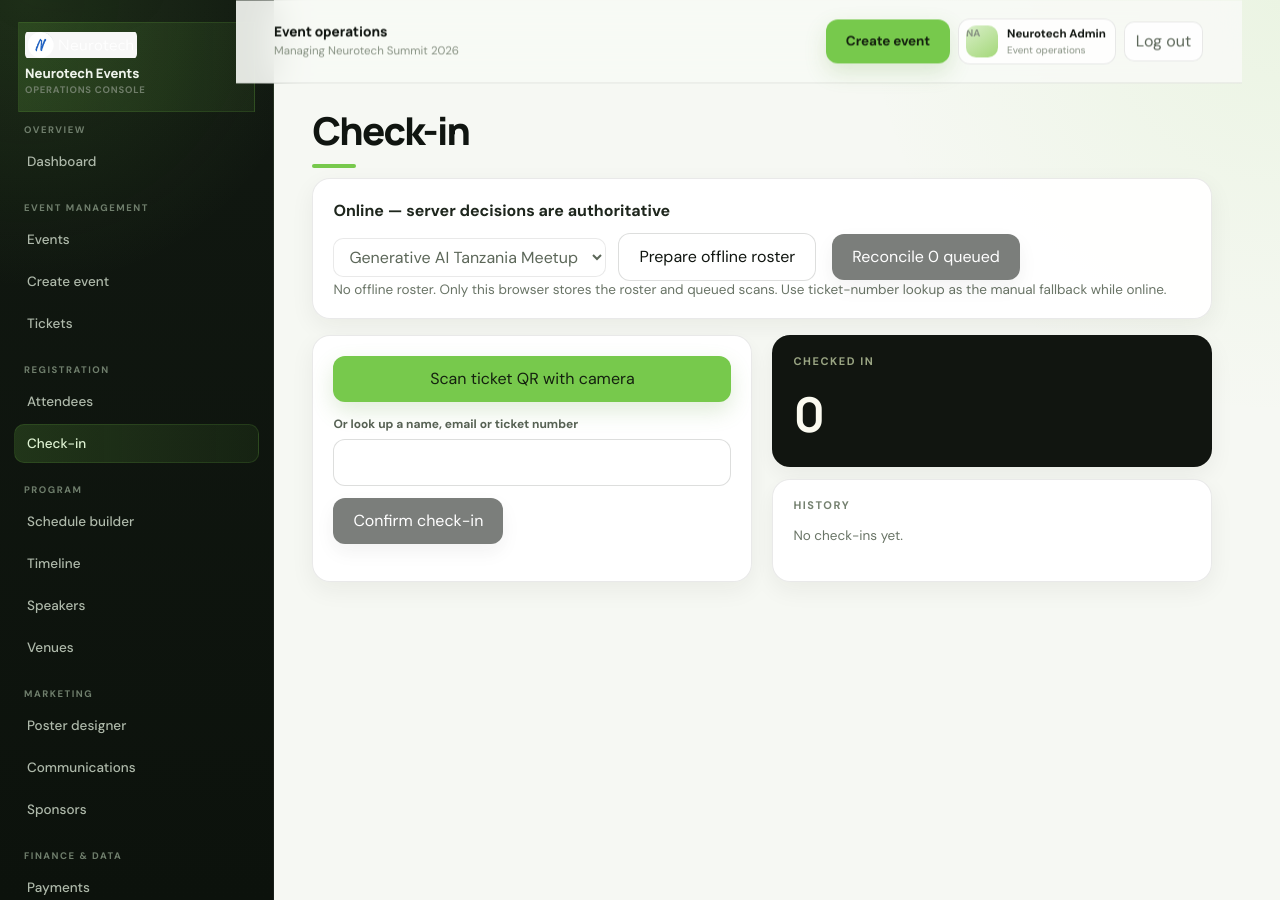
Scenario: check-in › checks a ticket in by ticket number and announces the attendee
Type "NTS-7F3A9C21" into the field labelled "Or look up a name, email or ticket number".
click(532, 463); type("NTS-7F3A9C21")  # box [333,439,731,486]
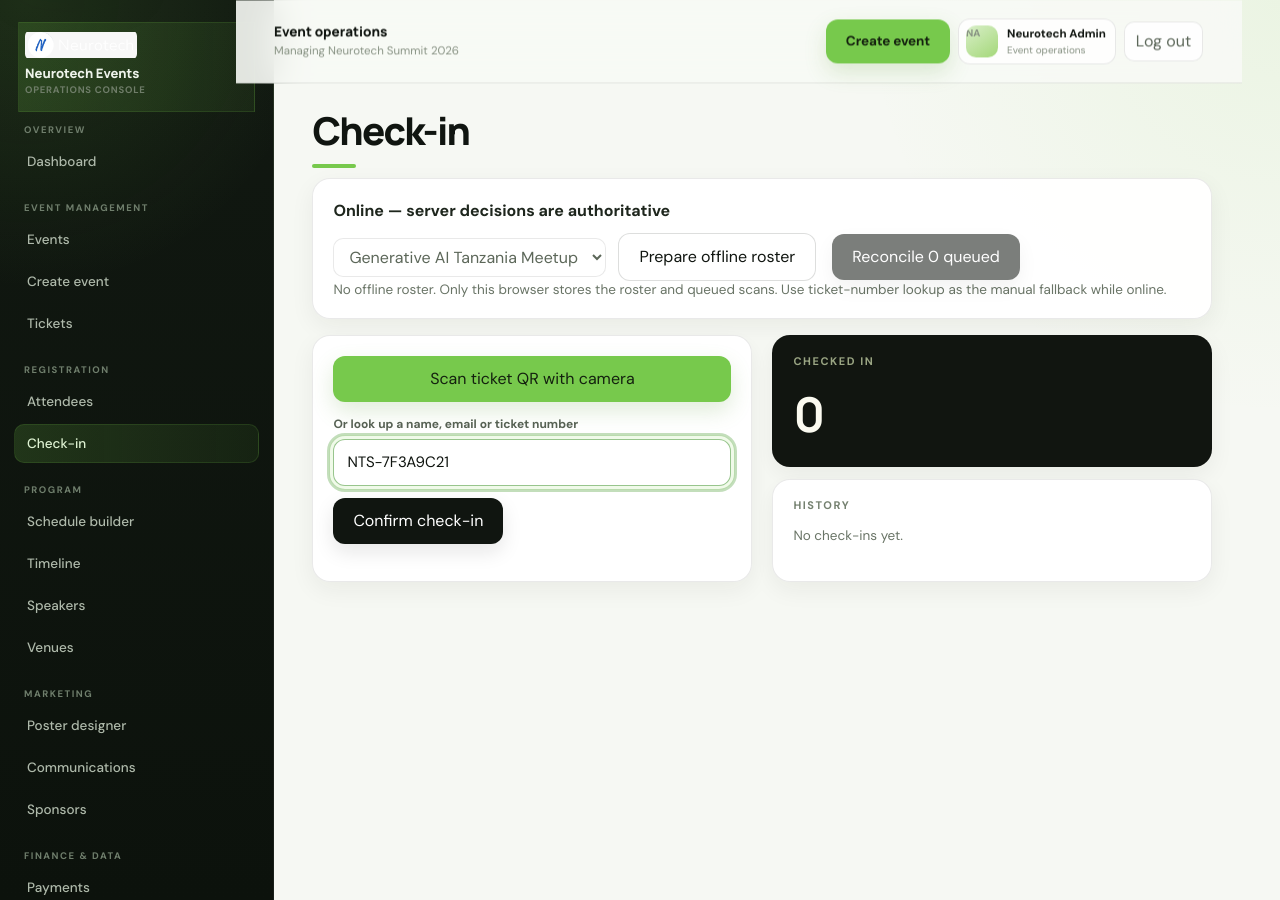
Click the button "Confirm check-in".
click(418, 521)  # box [333,498,503,544]
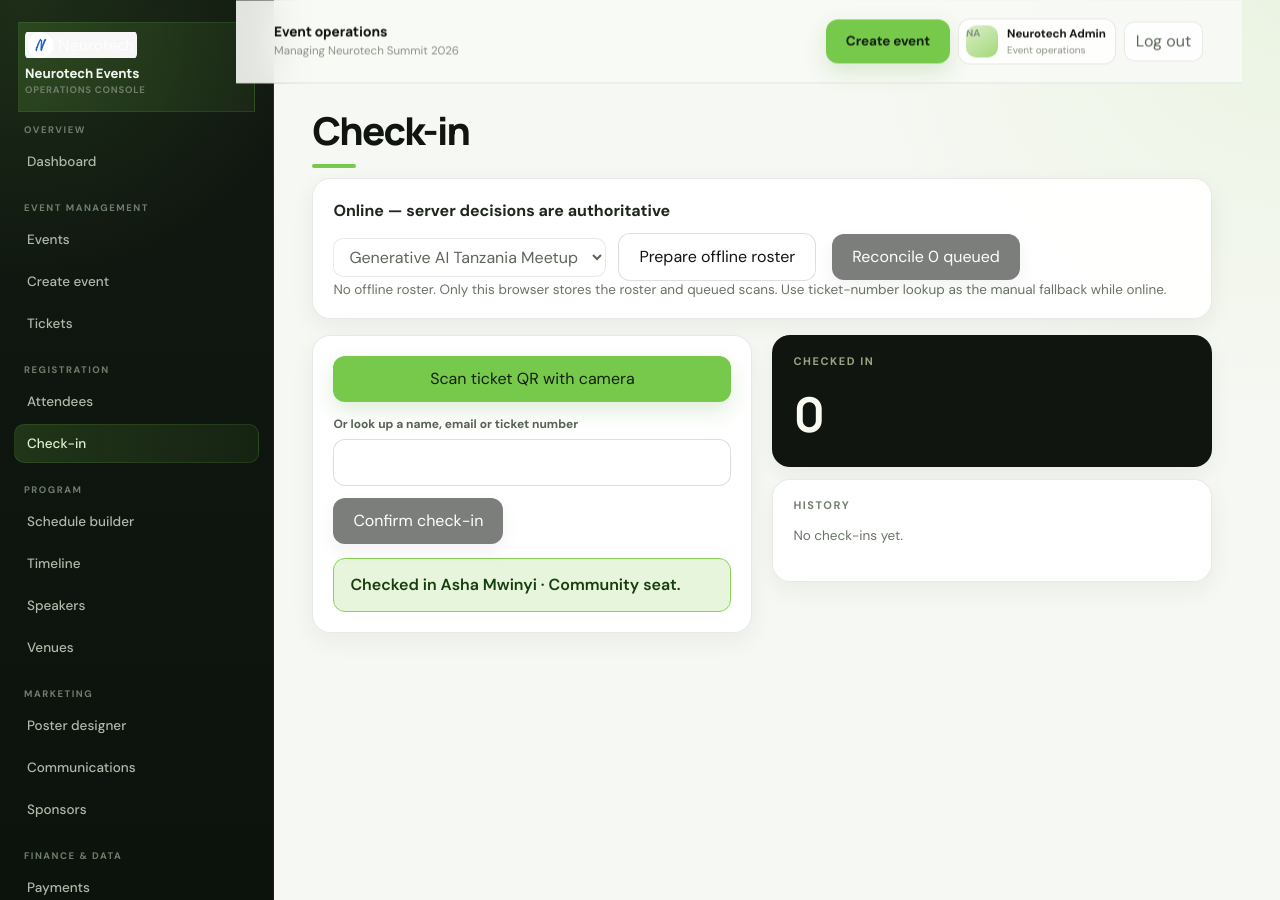
Expected: the message reads "Checked in Asha Mwinyi · Community seat.", [350,574,681,595]
